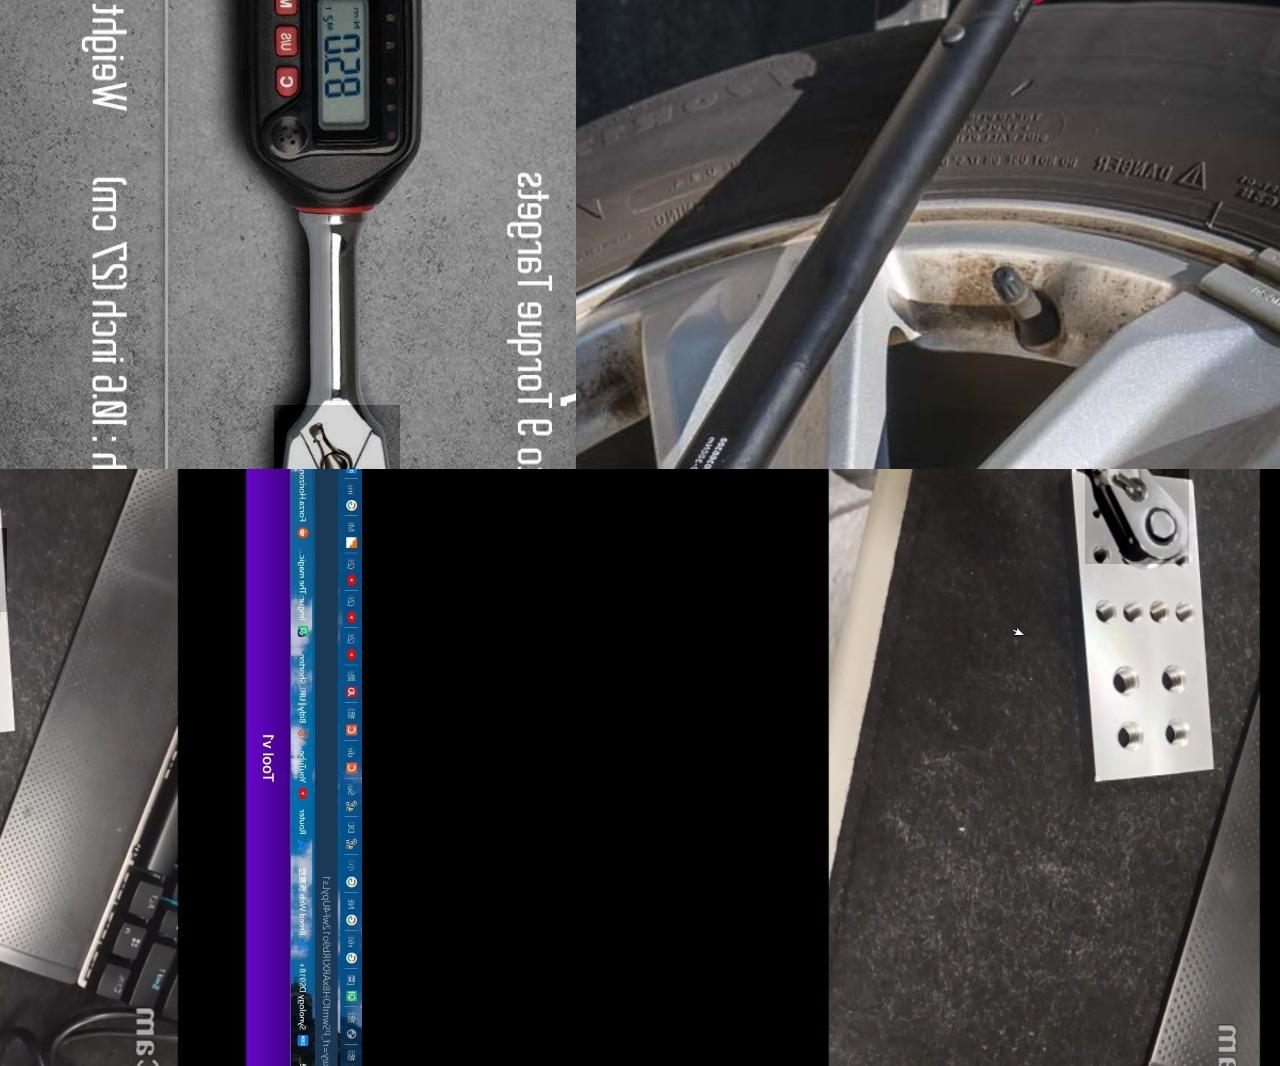Tool: (1084, 469, 1188, 564), (273, 405, 399, 469)
hole: (1109, 663, 1147, 699), (1158, 662, 1196, 697), (1109, 724, 1144, 754), (1161, 723, 1196, 750), (1091, 604, 1121, 629), (1173, 604, 1200, 628), (1150, 603, 1176, 628), (1118, 604, 1145, 628), (1091, 551, 1115, 572)
